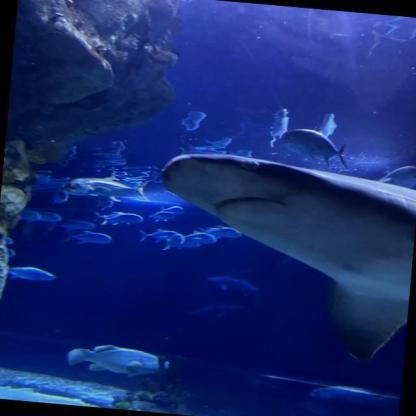fish: (67, 341, 171, 382), (282, 124, 351, 170), (307, 382, 399, 416), (62, 172, 151, 205), (378, 162, 415, 190), (7, 266, 57, 286), (62, 229, 113, 247), (46, 217, 95, 235), (138, 228, 180, 246), (100, 211, 142, 228), (196, 224, 242, 238), (184, 230, 218, 245), (160, 232, 184, 252), (92, 210, 122, 225), (146, 210, 176, 224), (37, 210, 62, 223), (48, 190, 68, 206), (18, 209, 42, 222), (159, 205, 185, 216), (96, 199, 114, 211)
shark: (148, 146, 416, 367), (202, 268, 263, 298), (186, 298, 246, 321)
